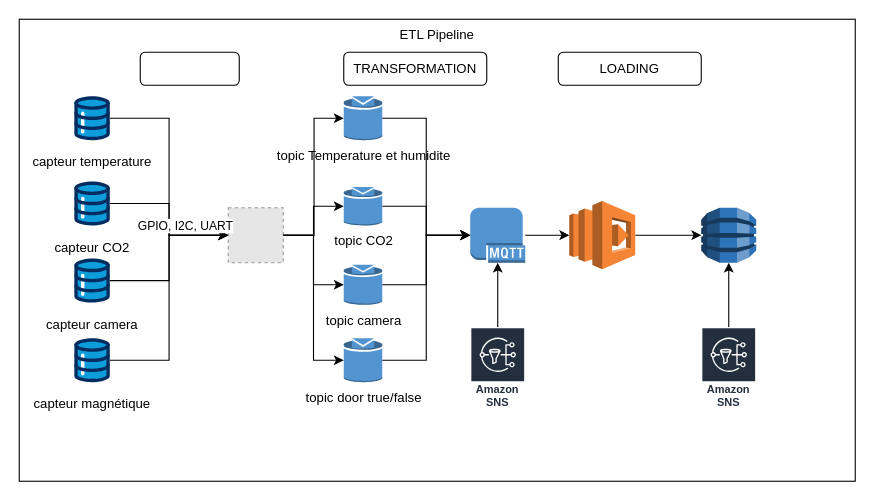
Some shapes in this 875 by 501 pixel diagram are drawn without their labels. Grey dashed boxes stand in for pictures. The shapes that lost their labels are listed below. From the top down, each one's box as (x1, y1, x2, y2) in pixels, then its label:
(139, 51, 239, 85): EXTRACTION
(469, 207, 525, 263): broker local? AWS IoT core? détection d'anomalies
(568, 200, 635, 269): AWS Lambda
(700, 207, 756, 263): AWS DynamoDB
